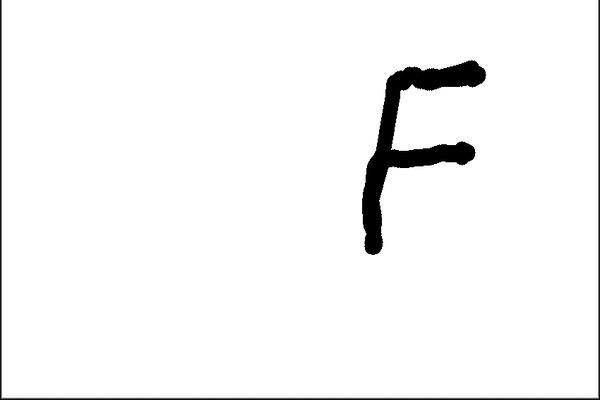F: (355, 56, 491, 258)
